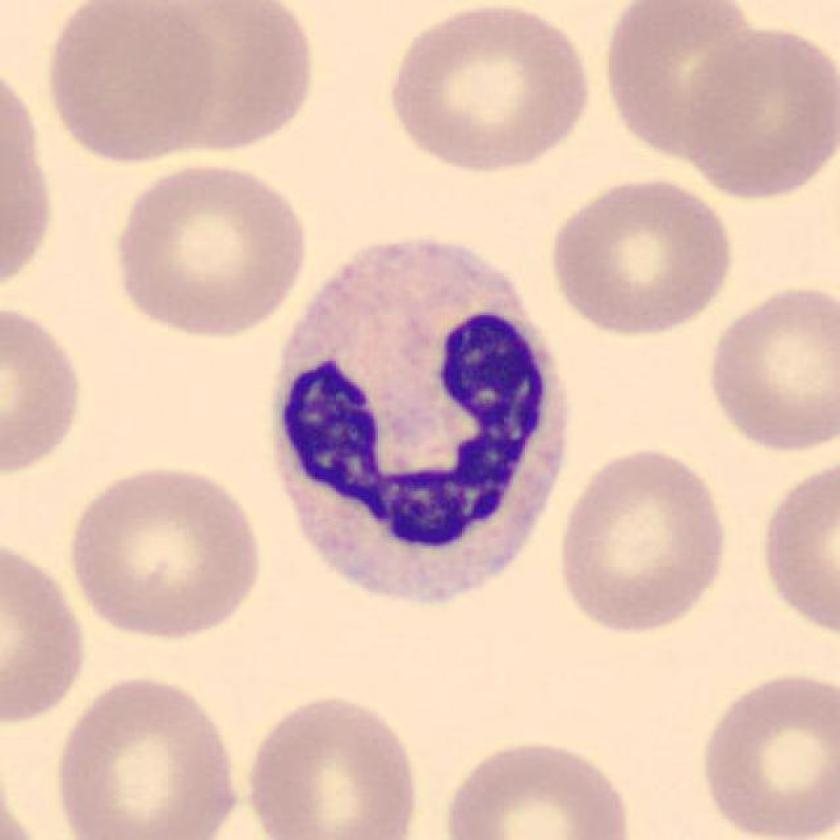neutrophil: (274, 243, 565, 602)
